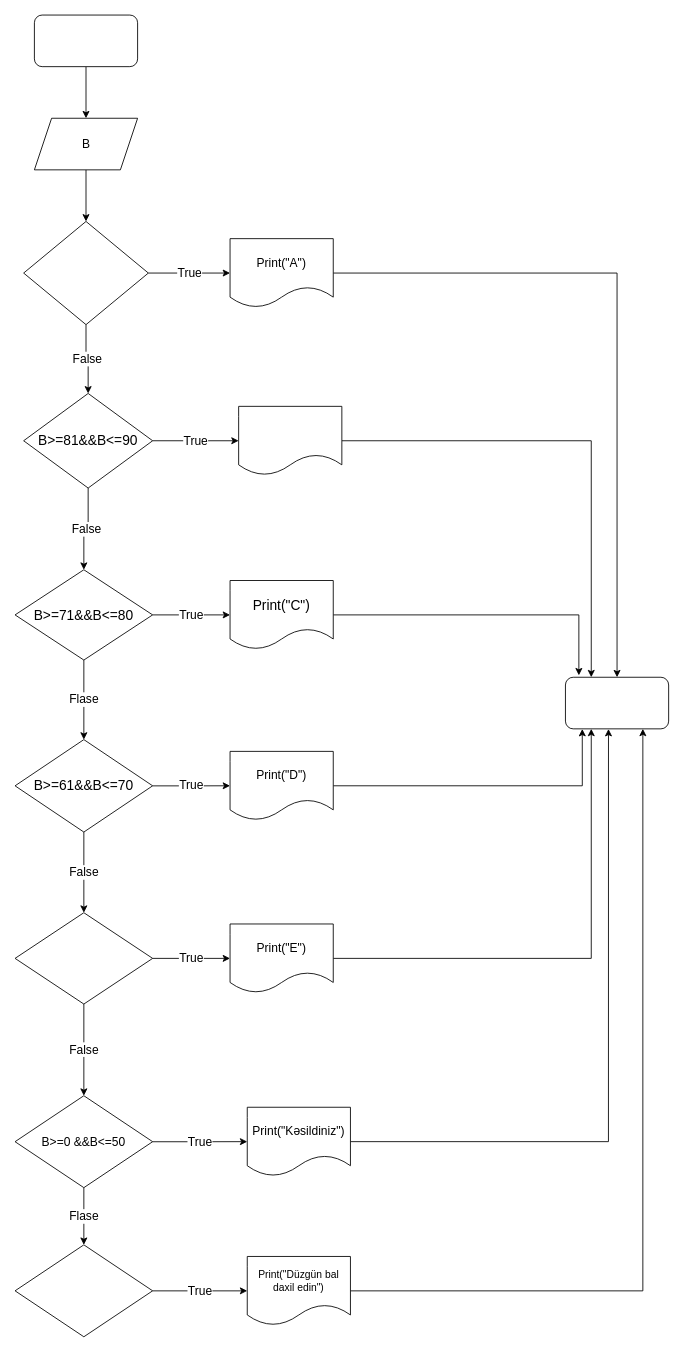
The diagram is 684 pixels wide and 1352 high, and some of its shapes have lost their labels. The shapes that lost their labels are listed below. From the top down, each one's centre as x and y in pixels, then its label:
pixel 86 40: Start
pixel 85 273: B>=91&&B<=100
pixel 290 440: Print("B")
pixel 617 702: END
pixel 83 958: B>=51&&B<=60
pixel 83 1290: B>100&&B<0
